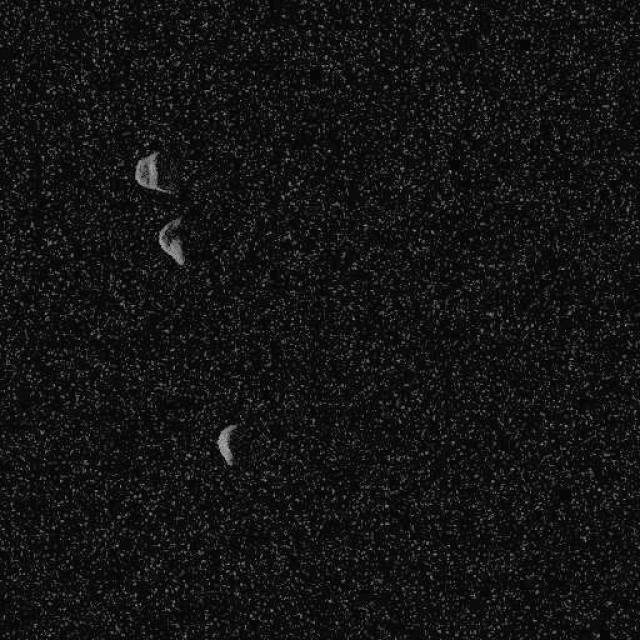D2: (134, 150, 175, 195), (156, 214, 186, 266), (215, 422, 236, 467)
